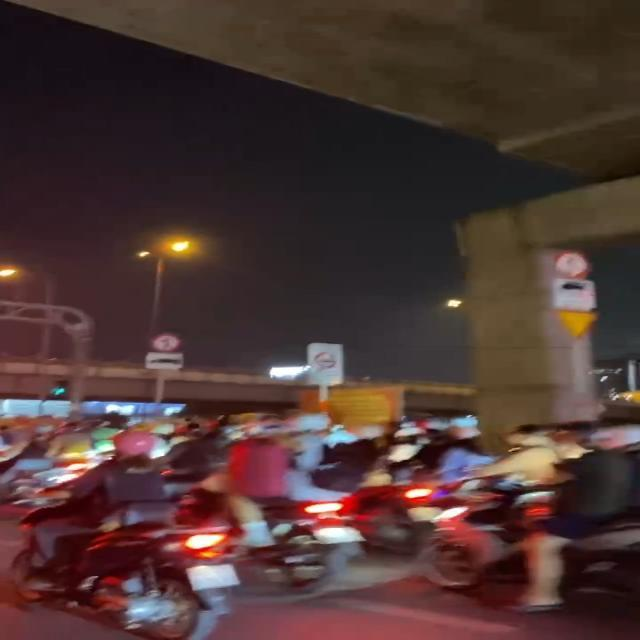136-cam-di-thang: (150, 332, 180, 354)
208-giao-nhau-voi-duong-uu-tien: (552, 308, 602, 338)
